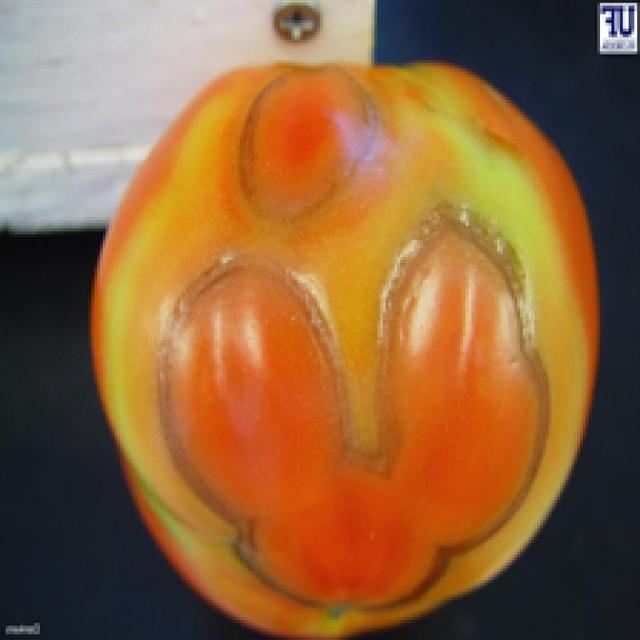Spotted wilt Virus Fruit: (62, 39, 399, 423)
